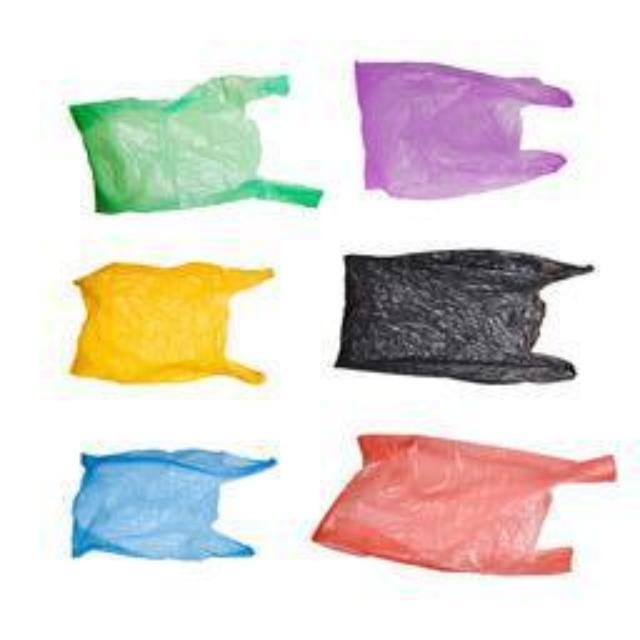Bolsa-de-plastico: (325, 442, 617, 575), (73, 73, 327, 210), (343, 256, 592, 382), (358, 66, 572, 192), (68, 452, 275, 562), (75, 263, 275, 375)
